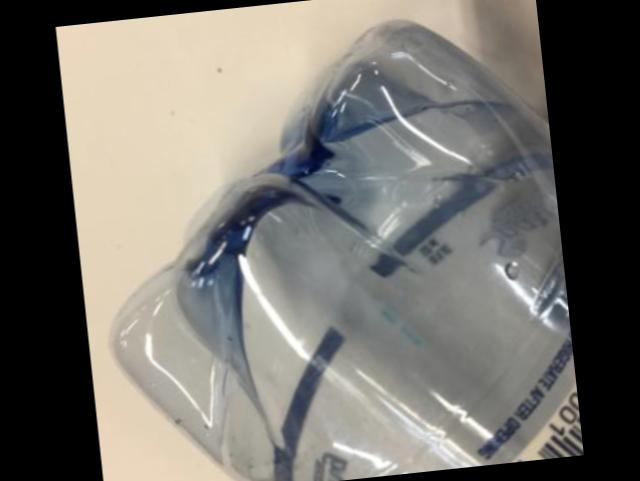plastic: (109, 22, 584, 481)
